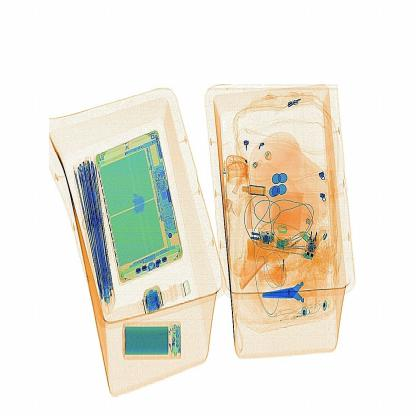gun: (256, 266, 331, 316)
